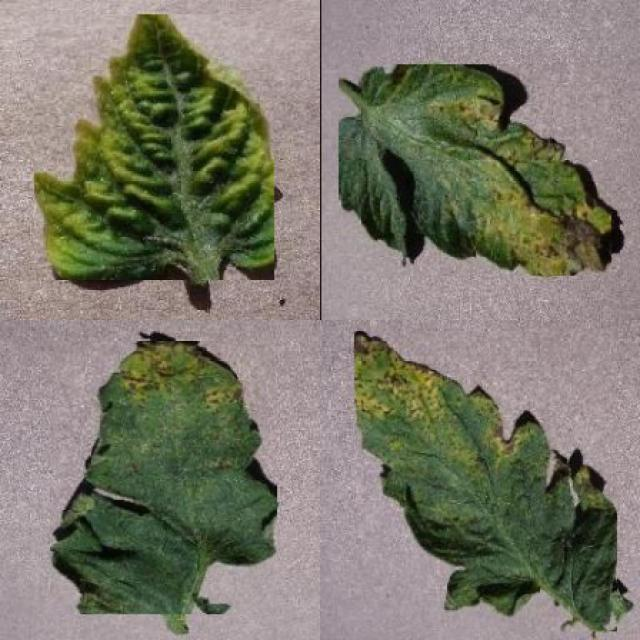Septoria: (354, 328, 617, 632), (48, 340, 278, 614), (338, 65, 612, 276)
Yellow Leaf Curl Virus: (35, 14, 274, 280)
